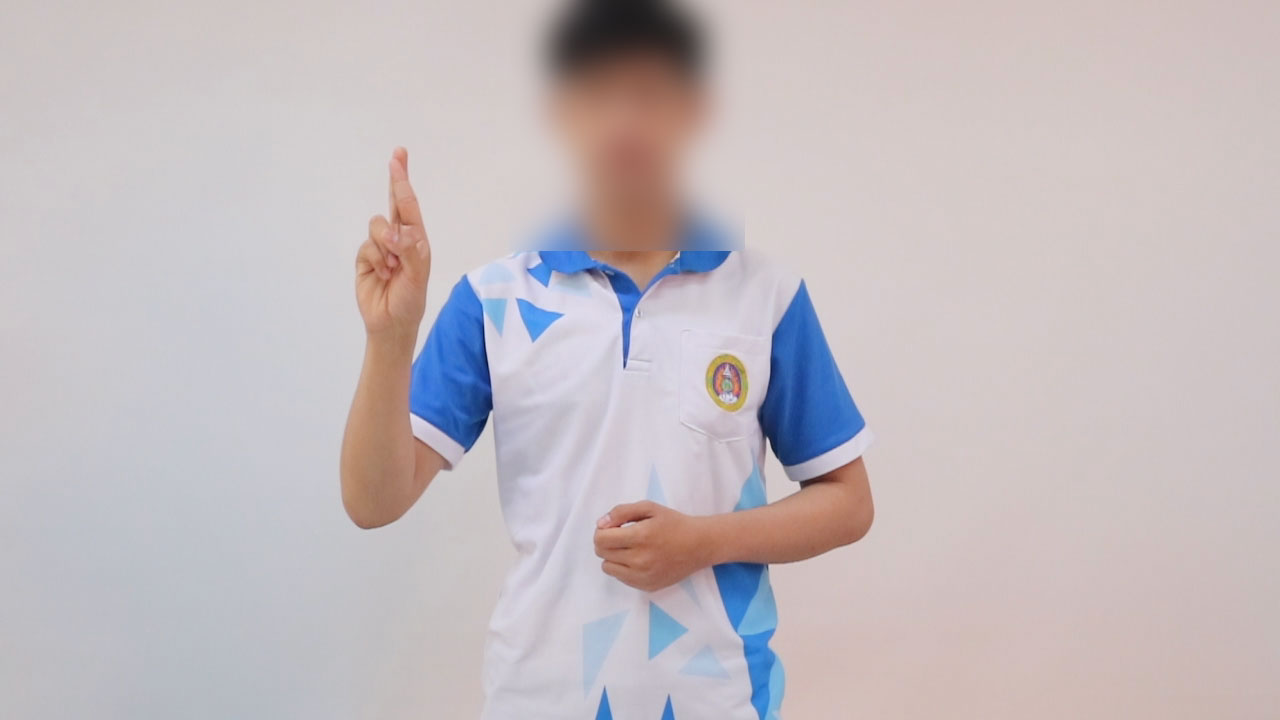rao: (330, 139, 446, 350)
